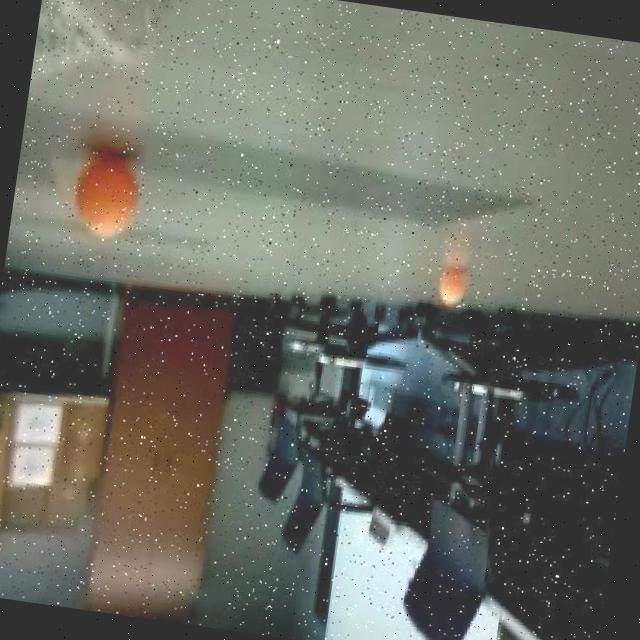ping-pong-ball: (64, 142, 148, 245), (435, 260, 467, 310)
